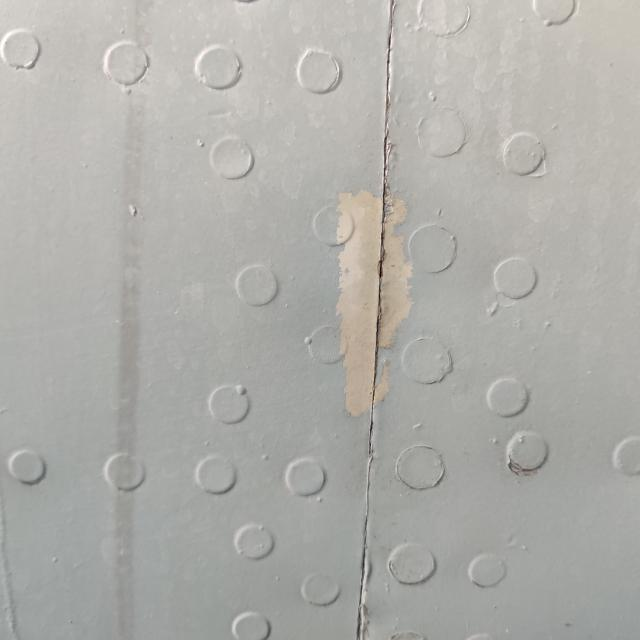paint-off: (297, 182, 433, 440)
